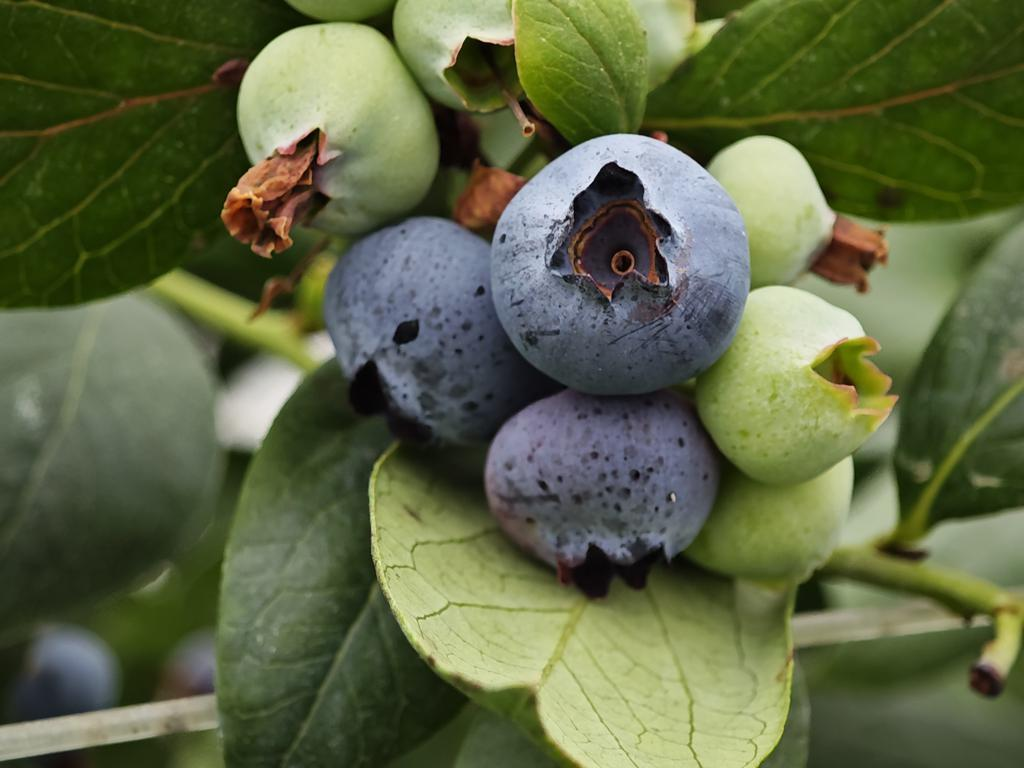RipeBlueBerry: (485, 129, 755, 399), (482, 393, 720, 583)
UnripeBlueBerry: (229, 14, 442, 241)
